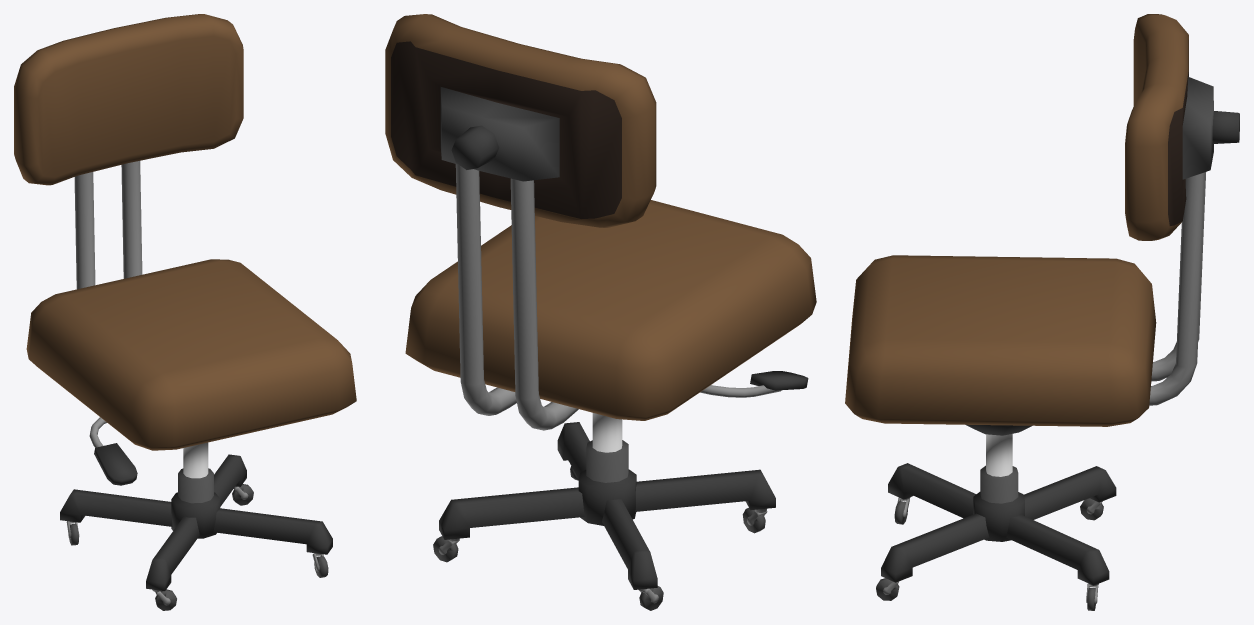
File: chair2.glb
3 renders of one model, left to right at view 1: azimuth 30°, elevation 25°; view 2: azimuth 150°, elevation 25°; view 3: azimuth 270°, elevation 25°, orthographic. The views are drawn at different scales.
Parts seen in each view (by area): view 1: Cube.004; view 2: Cube.004; view 3: Cube.004.
Part boxes in pixels (x1,y1,x2,y2): Cube.004: (14,14,356,610); Cube.004: (385,14,816,610); Cube.004: (845,14,1239,610).
Size of the model in its own units: 0.7388 by 1.41 by 0.9945.
